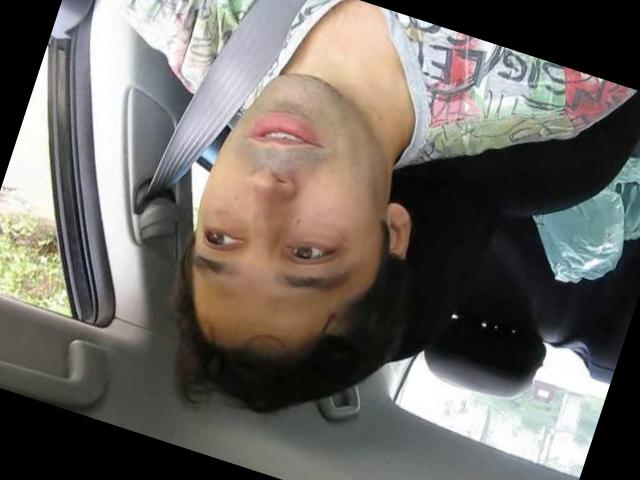eye_open: (279, 229, 344, 279), (192, 217, 247, 263)
face: (167, 55, 408, 324)
